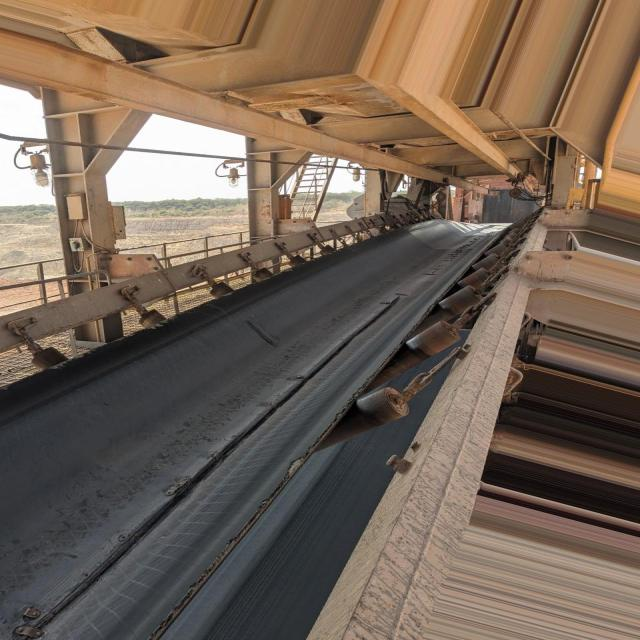Roller: (30, 243, 338, 369), (371, 319, 461, 390), (317, 386, 411, 450), (409, 286, 482, 338), (462, 231, 513, 286)
Tear: (8, 291, 408, 640)
